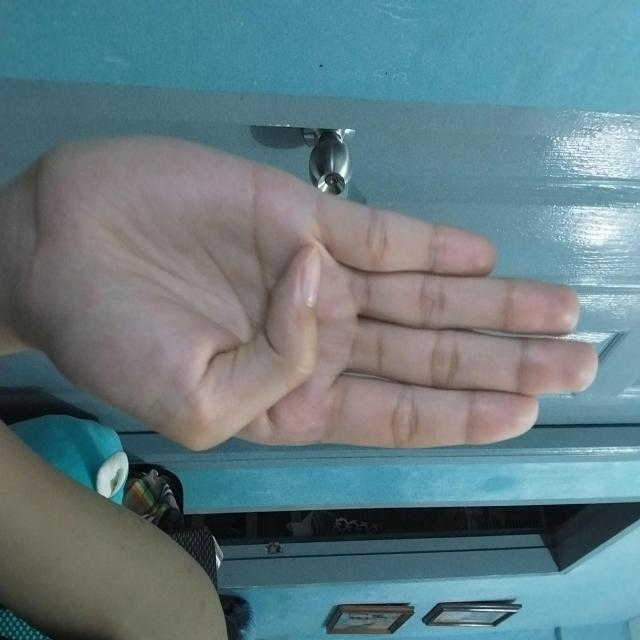B: (133, 39, 459, 610)
